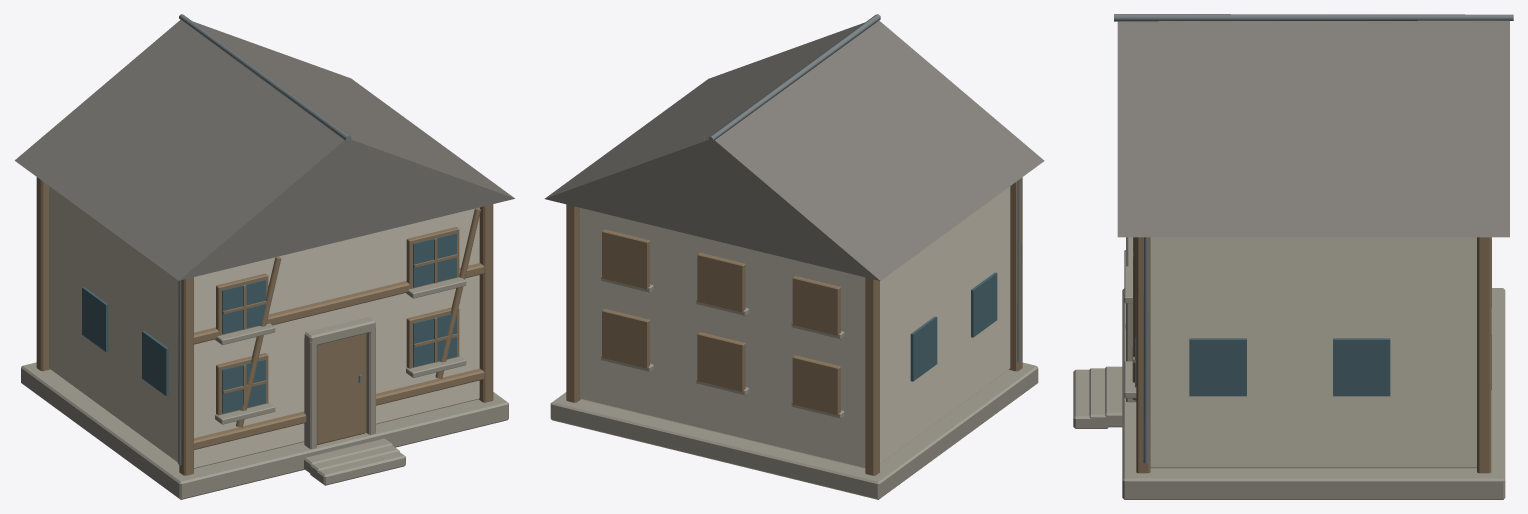
The model's file is bld_academie_a03.glb.
3 renders of one model, left to right at view 1: azimuth 30°, elevation 25°; view 2: azimuth 150°, elevation 25°; view 3: azimuth 270°, elevation 25°, orthographic. The views are drawn at different scales.
Parts seen in each view (by area): view 1: bld_academie_a03; view 2: bld_academie_a03; view 3: bld_academie_a03.
Part boxes in pixels (x1=…): bld_academie_a03: x1=15, y1=14, x2=514, y2=499; bld_academie_a03: x1=544, y1=14, x2=1044, y2=499; bld_academie_a03: x1=1073, y1=14, x2=1513, y2=499.
Bounding box in the file's own units: 3.88 × 3.61 × 3.68.
